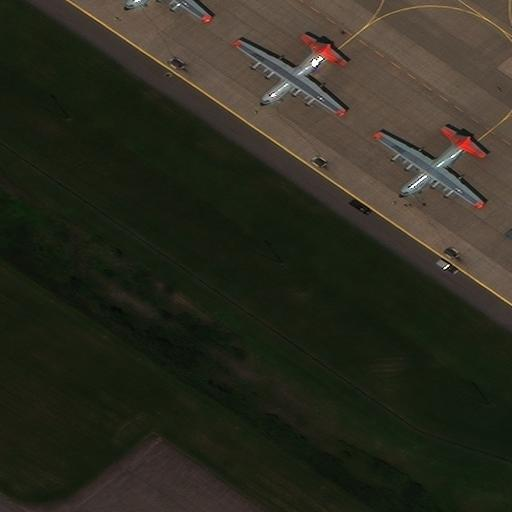Military Transport: (232, 42, 338, 116), (373, 135, 476, 207), (118, 0, 204, 21)
